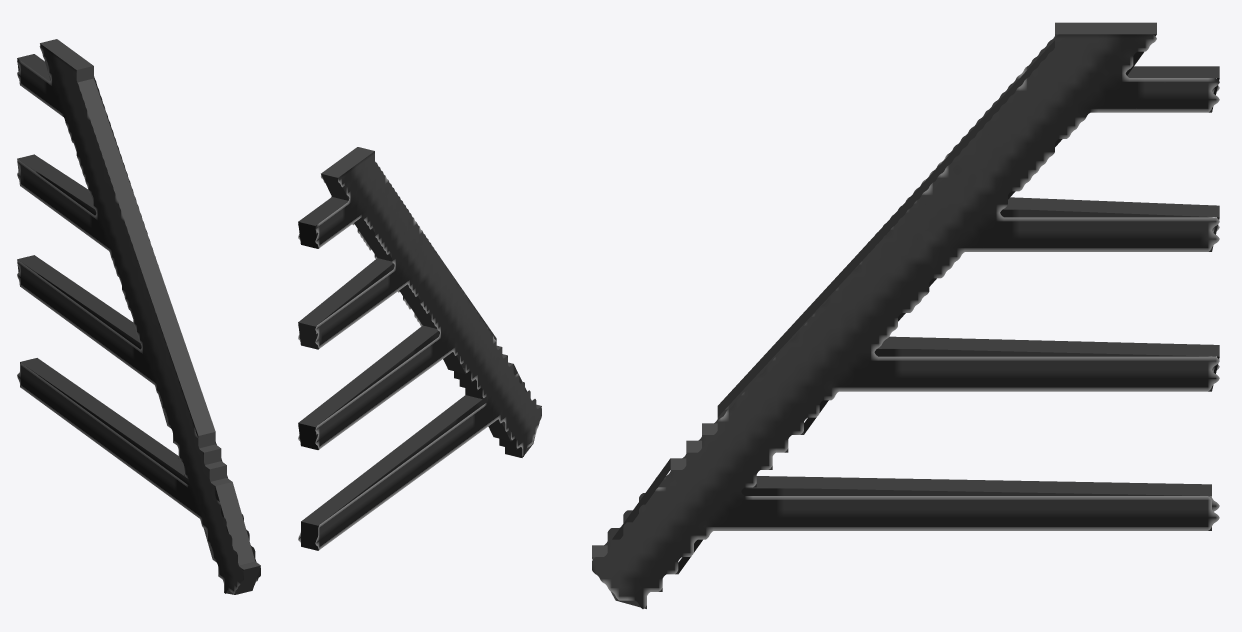
The model's file is pz_native_fixtures_railings_01_20_frame.obj.
The picture shows the model from 3 angles, left to right: view 1: azimuth 30°, elevation 25°; view 2: azimuth 150°, elevation 25°; view 3: azimuth 270°, elevation 25°; orthographic projection. The views are drawn at different scales.
Visible parts, largest first — view 1: pz_native_fixtures_railings_01_20_frame; view 2: pz_native_fixtures_railings_01_20_frame; view 3: pz_native_fixtures_railings_01_20_frame.
Part boxes in pixels (left/top/right/bottom): pz_native_fixtures_railings_01_20_frame: left=17, top=39, right=260, bottom=594; pz_native_fixtures_railings_01_20_frame: left=298, top=147, right=541, bottom=550; pz_native_fixtures_railings_01_20_frame: left=592, top=22, right=1219, bottom=608.
Size of the model in its own units: 0.045 by 1.06 by 1.06.
Materials: 1 (1 with a texture image).
